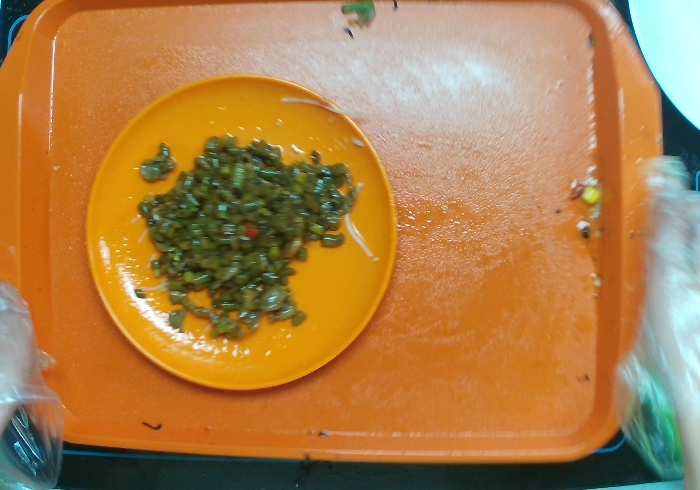HZYJPL-Ju_Huang_Yuan_Pan: (85, 71, 398, 393)
